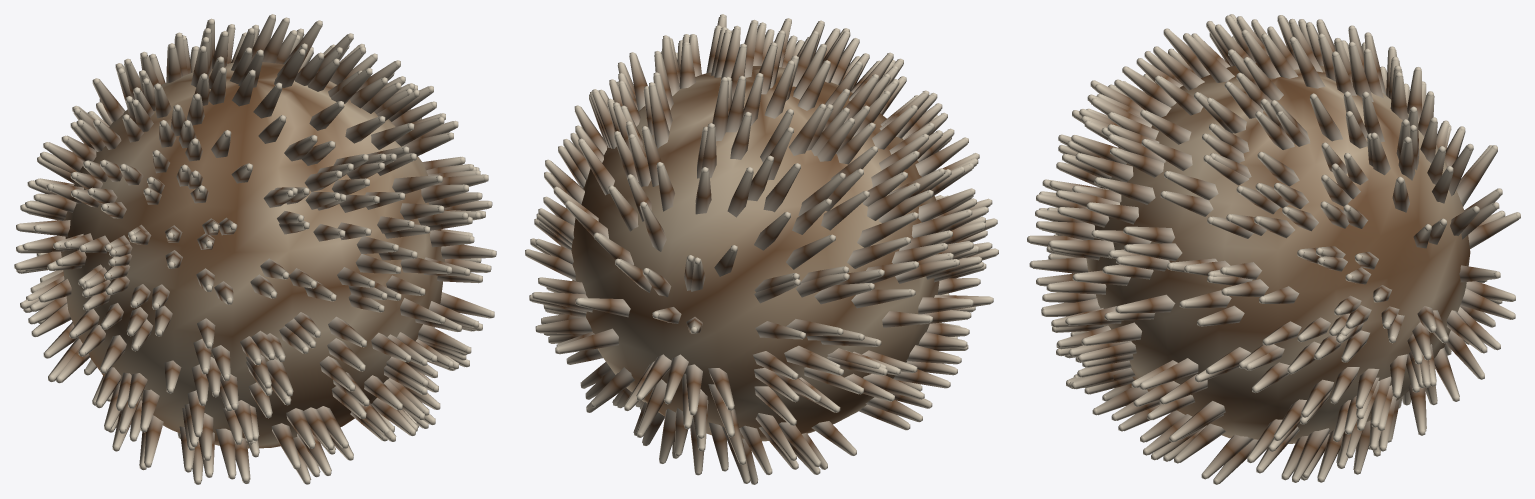
Rendered from Harinezumi_Ball.fbx.
3 renders of one model, left to right at view 1: azimuth 30°, elevation 25°; view 2: azimuth 150°, elevation 25°; view 3: azimuth 270°, elevation 25°, orthographic. The views are drawn at different scales.
Parts seen in each view (by area): view 1: Harinezumi_Ball; view 2: Harinezumi_Ball; view 3: Harinezumi_Ball.
Boxes of the visible parts, box(x1,y1,x2,y2) form: Harinezumi_Ball: box(14, 14, 496, 484); Harinezumi_Ball: box(525, 14, 998, 484); Harinezumi_Ball: box(1027, 14, 1520, 484).
Size of the model in its own units: 2.22 by 2.17 by 2.31.
